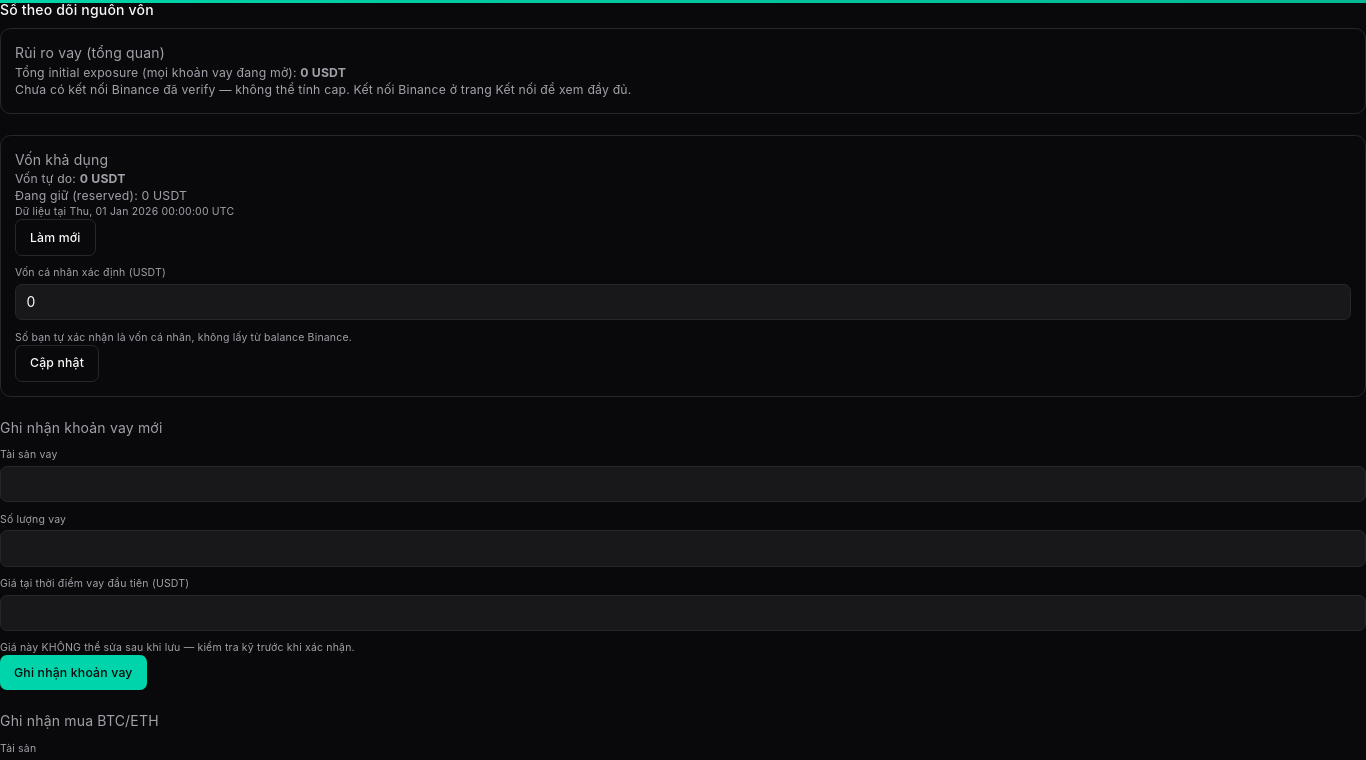
Test: CapitalProvenanceLedgerPage › creating a borrow position adds a card showing its liability (US-001, AC-001)
Type "ZEC" into the field labelled "Tài sản vay" at {"x": 683, "y": 484}, box x1=0 y1=466 x2=1365 y2=502
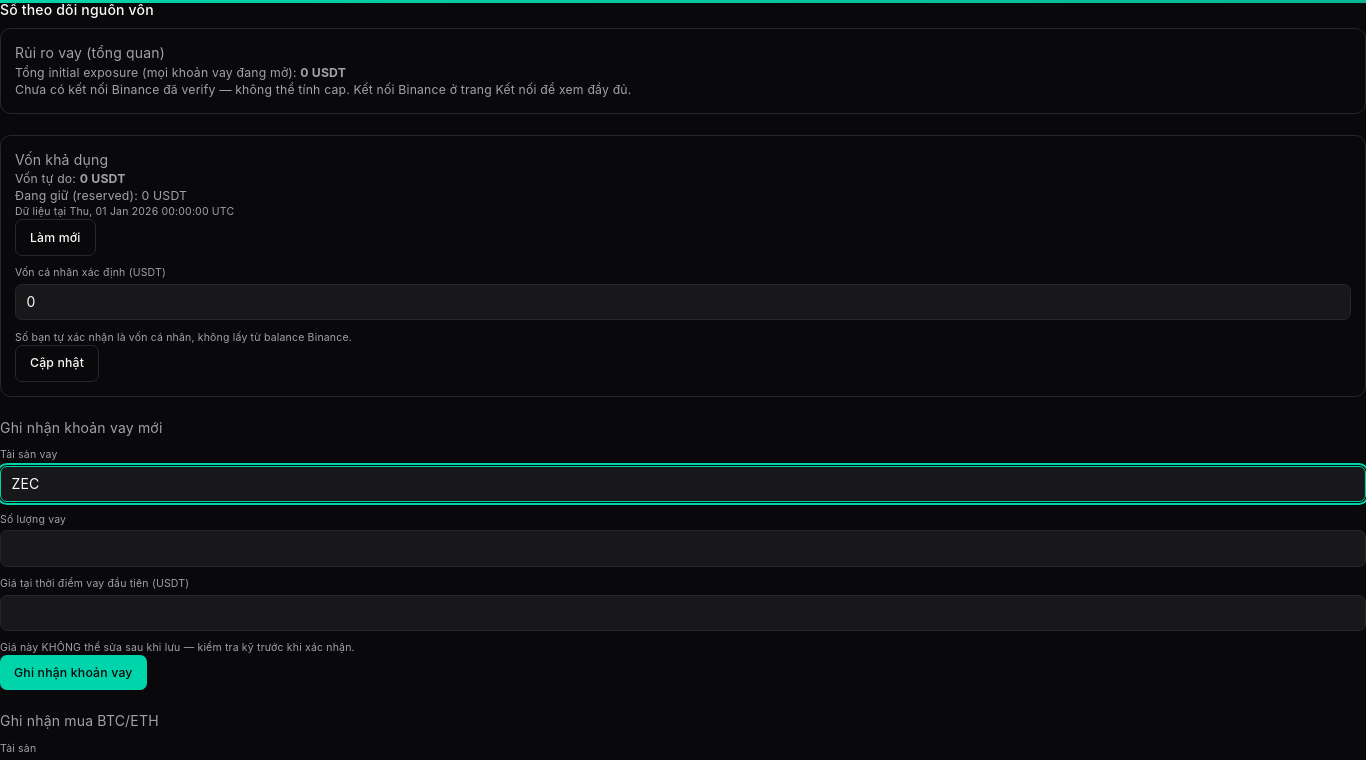
Type "25.1" into the field labelled "Số lượng vay" at {"x": 683, "y": 548}, box x1=0 y1=530 x2=1365 y2=567
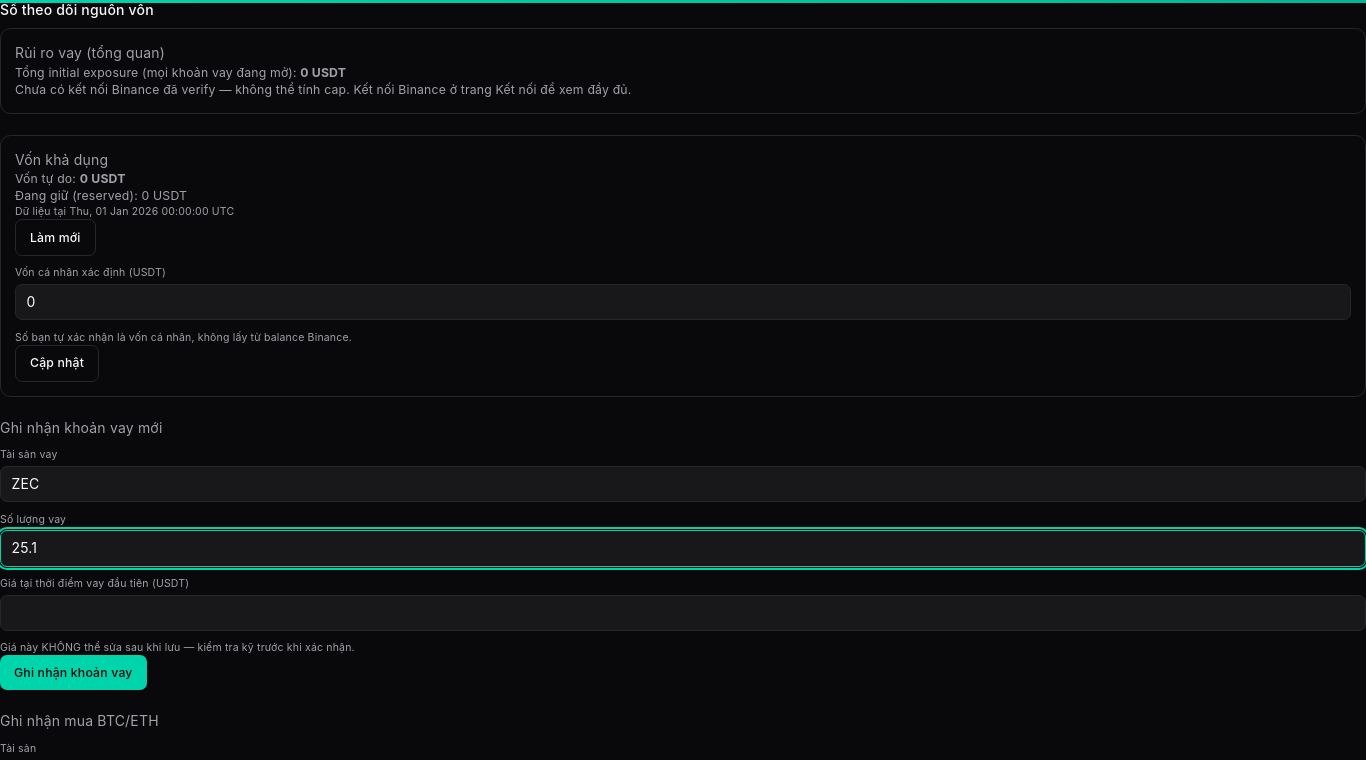
Type "420" into the field labelled "Giá tại thời điểm vay đầu tiên (USDT)" at {"x": 683, "y": 613}, box x1=0 y1=595 x2=1365 y2=631
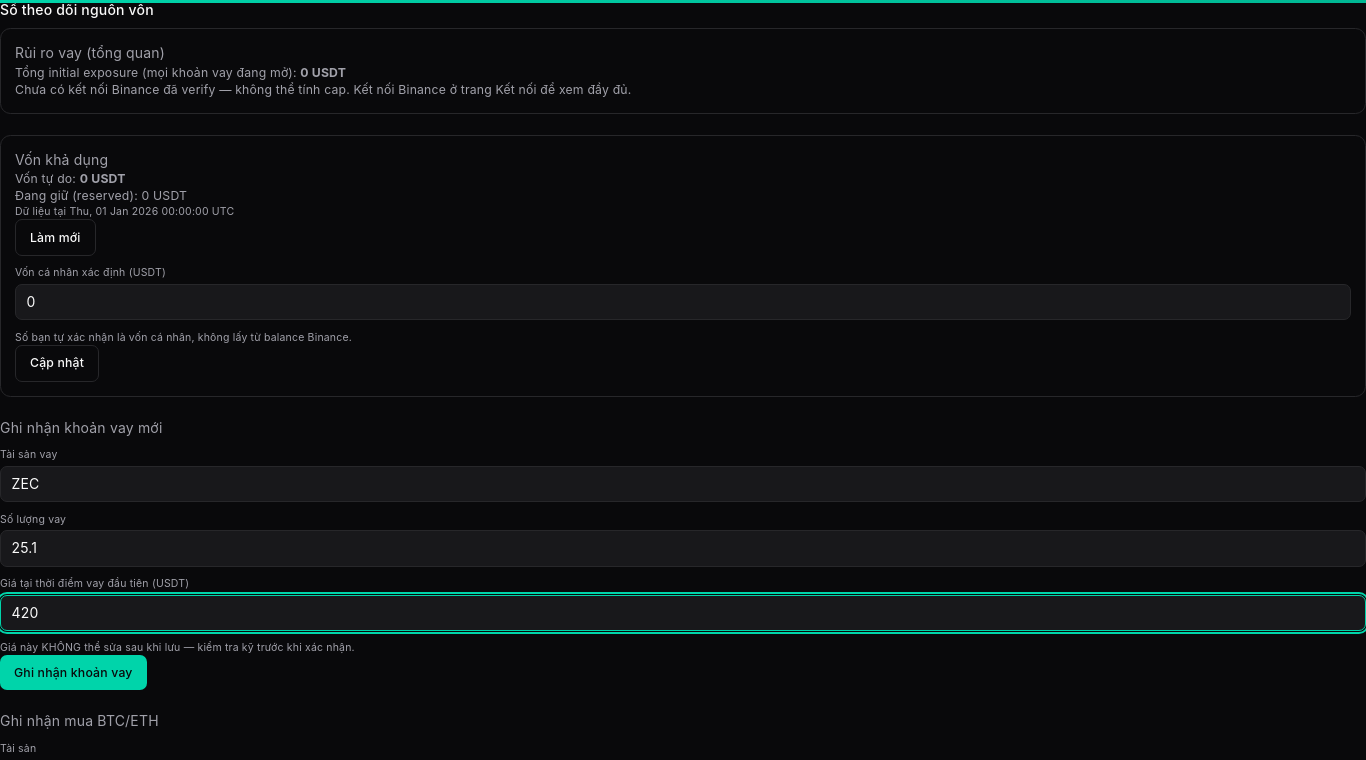
Click the button "Ghi nhận khoản vay" at {"x": 73, "y": 673}, box x1=0 y1=655 x2=147 y2=690
(page scrolled)
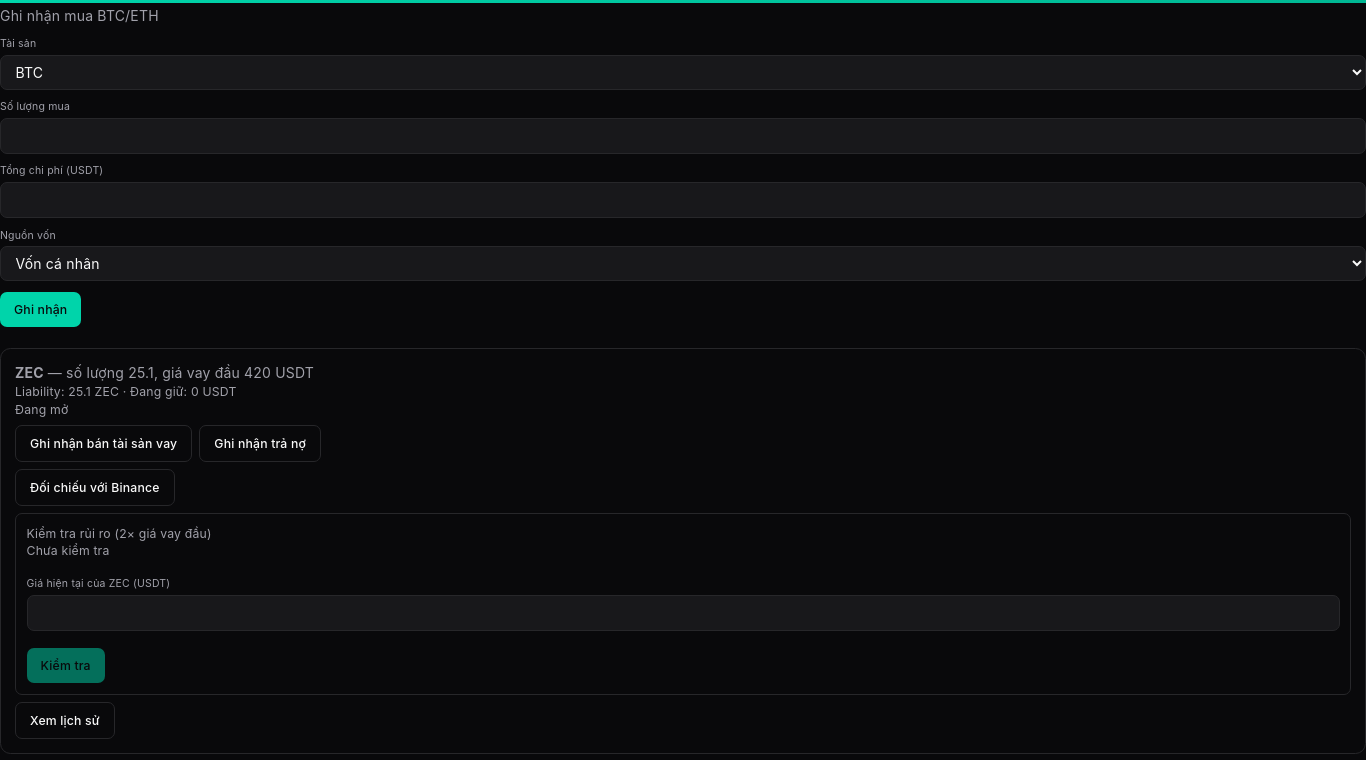
Check: the text "Liability: 25.1 ZEC · Đang giữ: 0 USDT" is shown, box x1=15 y1=384 x2=237 y2=399
